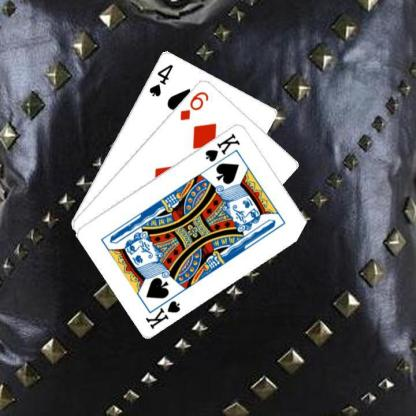4S: (146, 61, 175, 98)
6D: (178, 88, 210, 122)
KS: (143, 291, 182, 330), (202, 130, 242, 163)
